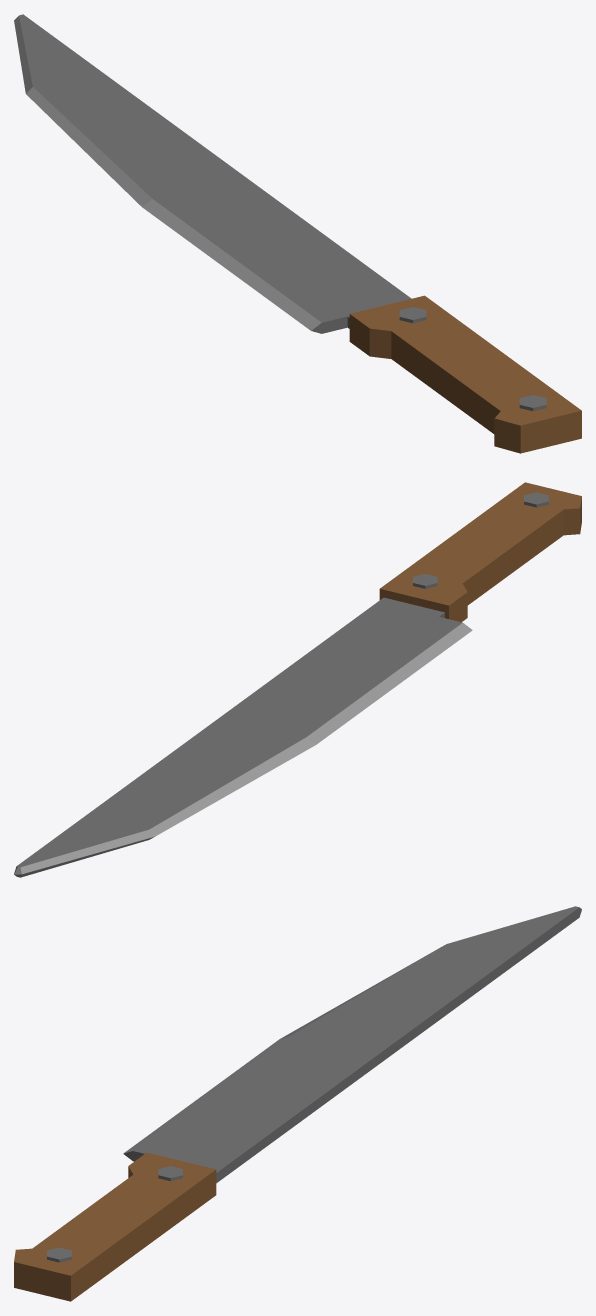
The model's file is KitchenKnife_02.fbx.
The picture shows the model from 3 angles, top to bottom: view 1: azimuth 30°, elevation 25°; view 2: azimuth 150°, elevation 25°; view 3: azimuth 330°, elevation 25°; orthographic projection. The views are drawn at different scales.
Parts seen in each view (by area): view 1: KitchenKnife_02; view 2: KitchenKnife_02; view 3: KitchenKnife_02.
Part boxes in pixels (x1,y1,x2,y2): KitchenKnife_02: (14, 14, 581, 453); KitchenKnife_02: (14, 482, 581, 877); KitchenKnife_02: (14, 906, 581, 1301).
Size of the model in its own units: 4.24 by 1.31 by 38.3.
